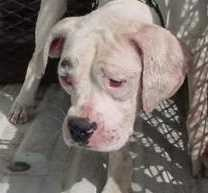dog: (2, 2, 181, 159)
